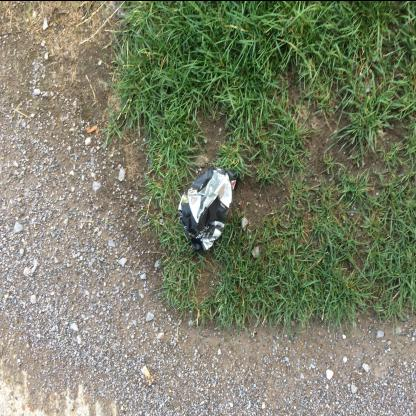plastik: (177, 166, 239, 250)
